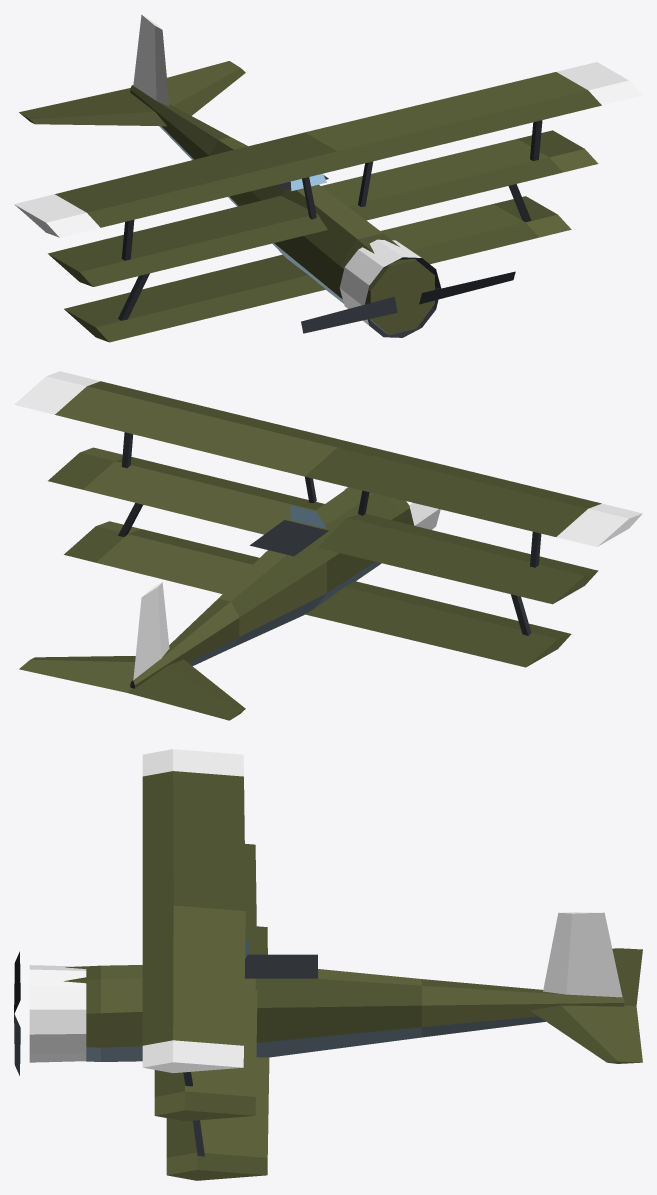
File: fokker_dr1.glb
3 renders of one model, top to bottom at view 1: azimuth 30°, elevation 25°; view 2: azimuth 150°, elevation 25°; view 3: azimuth 270°, elevation 25°, orthographic. The views are drawn at different scales.
Parts seen in each view (by area): view 1: body, prop; view 2: body; view 3: body, prop.
Part boxes in pixels (left/top/right/bottom): body: left=14, top=14, right=642, bottom=342; prop: left=301, top=271, right=515, bottom=333; body: left=14, top=371, right=642, bottom=720; body: left=29, top=749, right=642, bottom=1180; prop: left=14, top=951, right=20, bottom=1075.
Bounding box in the file's own units: 7.19 × 1.64 × 6.1.
